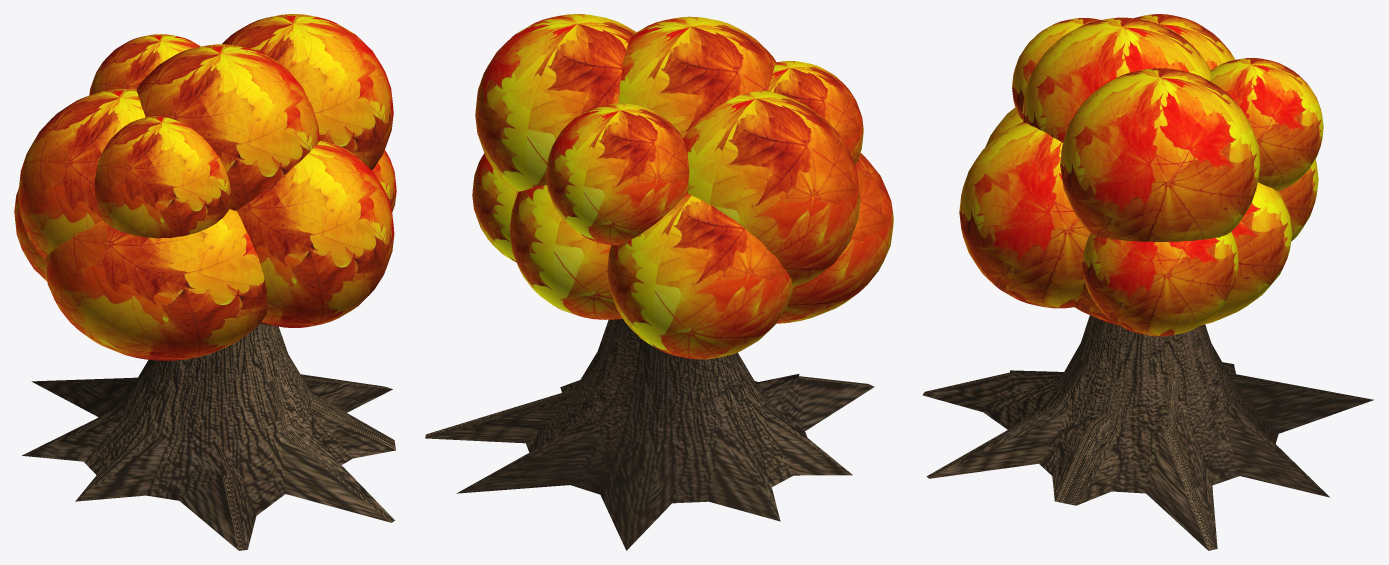
The model's file is springtree.FBX.
3 views of the same model, side by side, from view 1: azimuth 30°, elevation 25°; view 2: azimuth 150°, elevation 25°; view 3: azimuth 270°, elevation 25° (orthographic). The views are drawn at different scales.
Parts seen in each view (by area): view 1: Cone001wfwe, Sphere003, Sphere008, Sphere007, Sphere012, Sphere010, Sphere006, Sphere009, Sphere005, Sphere011; view 2: Cone001wfwe, Sphere006, Sphere005, Sphere010, Sphere009, Sphere007, Sphere004, Sphere003, Sphere012, Sphere011; view 3: Cone001wfwe, Sphere010, Sphere008, Sphere011, Sphere007, Sphere009, Sphere004, Sphere012, Sphere006, Sphere005.
Boxes of the visible parts, bbox=[...] form: Cone001wfwe: bbox=[22, 322, 395, 550]; Sphere003: bbox=[44, 209, 267, 360]; Sphere008: bbox=[237, 141, 394, 327]; Sphere007: bbox=[136, 44, 319, 210]; Sphere012: bbox=[94, 116, 231, 238]; Sphere010: bbox=[222, 14, 393, 169]; Sphere006: bbox=[18, 89, 145, 259]; Sphere009: bbox=[89, 34, 200, 95]; Sphere005: bbox=[14, 188, 47, 281]; Sphere011: bbox=[372, 150, 396, 211]; Cone001wfwe: bbox=[425, 318, 874, 550]; Sphere006: bbox=[683, 91, 860, 286]; Sphere005: bbox=[607, 193, 793, 359]; Sphere010: bbox=[475, 14, 636, 191]; Sphere009: bbox=[546, 103, 689, 245]; Sphere007: bbox=[618, 16, 776, 137]; Sphere004: bbox=[509, 185, 622, 319]; Sphere003: bbox=[776, 153, 893, 323]; Sphere012: bbox=[768, 61, 863, 164]; Sphere011: bbox=[472, 153, 518, 262]; Cone001wfwe: bbox=[922, 315, 1373, 550]; Sphere010: bbox=[1060, 68, 1259, 241]; Sphere008: bbox=[959, 122, 1090, 308]; Sphere011: bbox=[1082, 231, 1238, 336]; Sphere007: bbox=[1022, 17, 1210, 142]; Sphere009: bbox=[1210, 58, 1323, 191]; Sphere004: bbox=[1074, 182, 1292, 325]; Sphere012: bbox=[1012, 18, 1100, 119]; Sphere006: bbox=[1134, 14, 1235, 69]; Sphere005: bbox=[1279, 159, 1318, 241].
Bounding box in the file's own units: 467 × 481 × 470.
2 materials, 2 textured.
